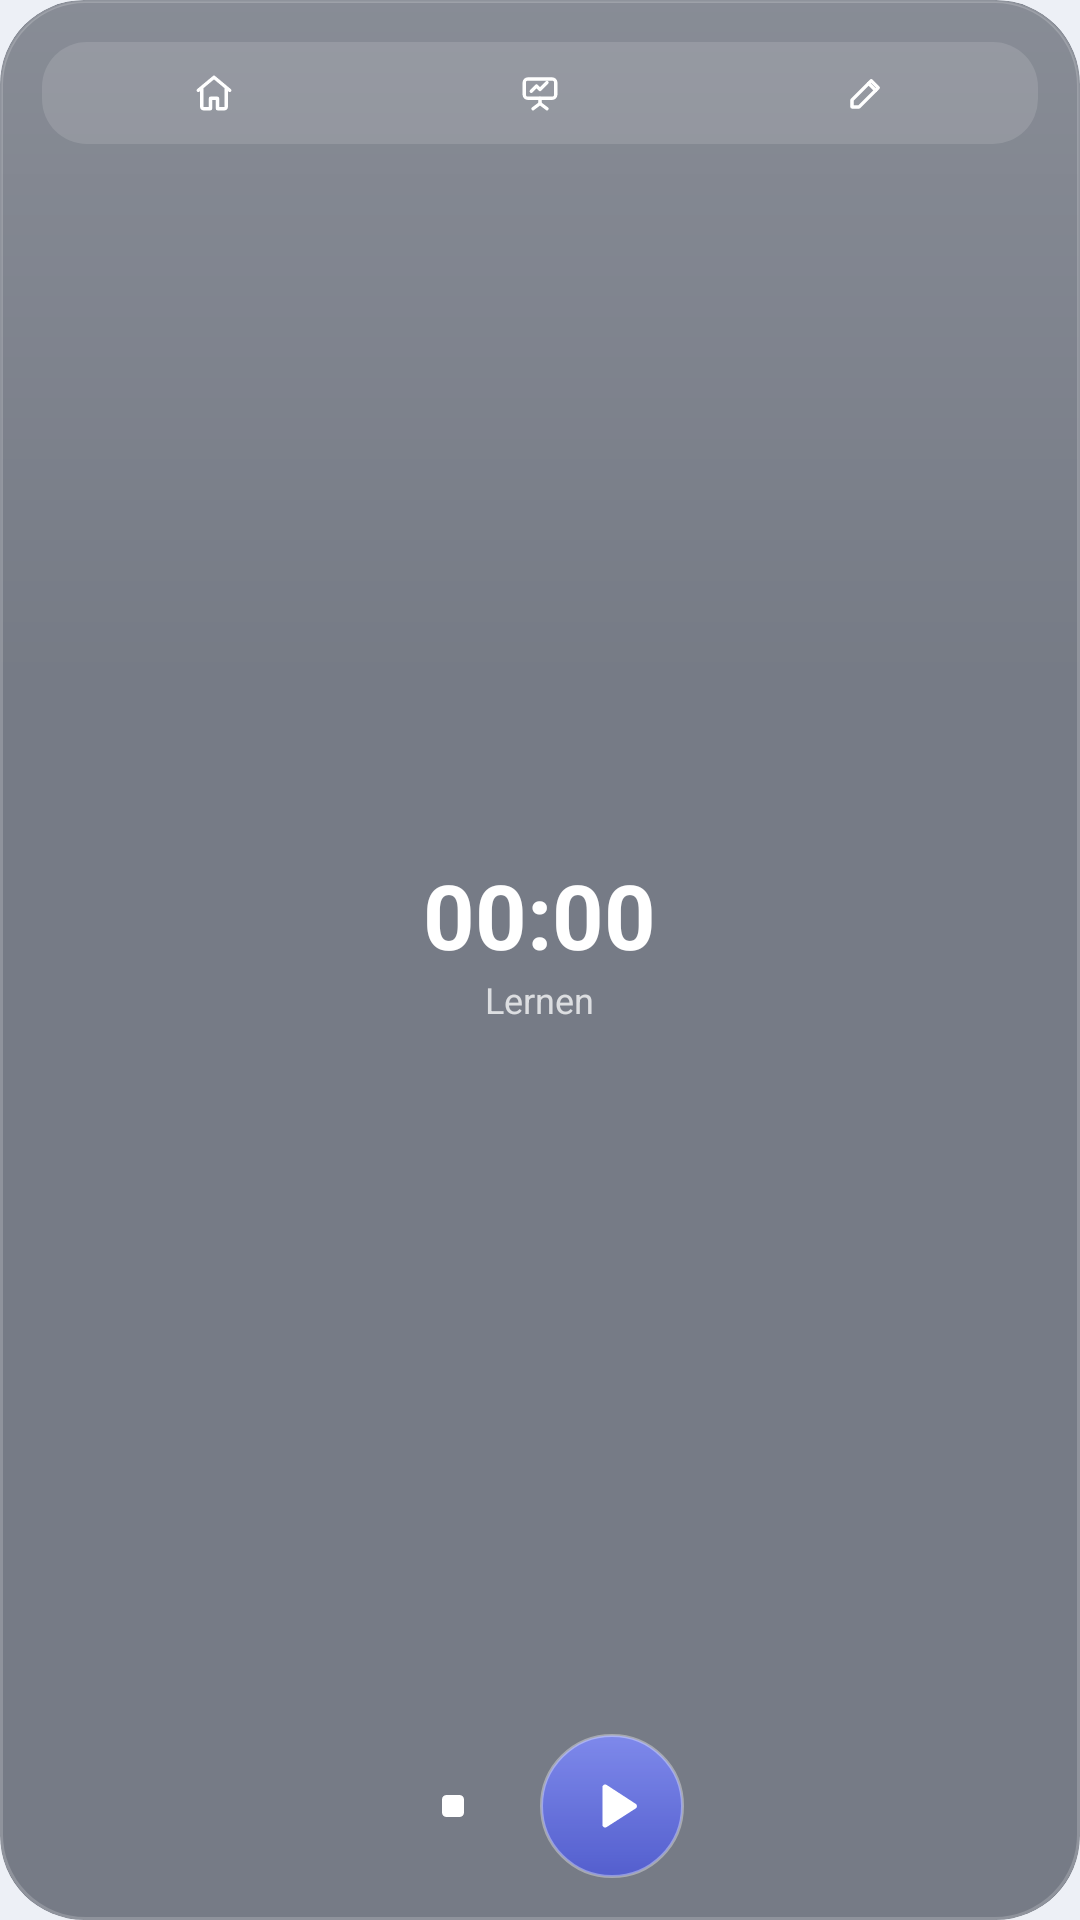

Icon bounding boxes for this 1080 × 1920 phone screenshot, format [x1,y1,x2,y2]:
house: [196,75,232,111]
pen: [850,79,880,109]
presentation: [522,77,558,111]
Start oder Pause: [540,1734,684,1878]
